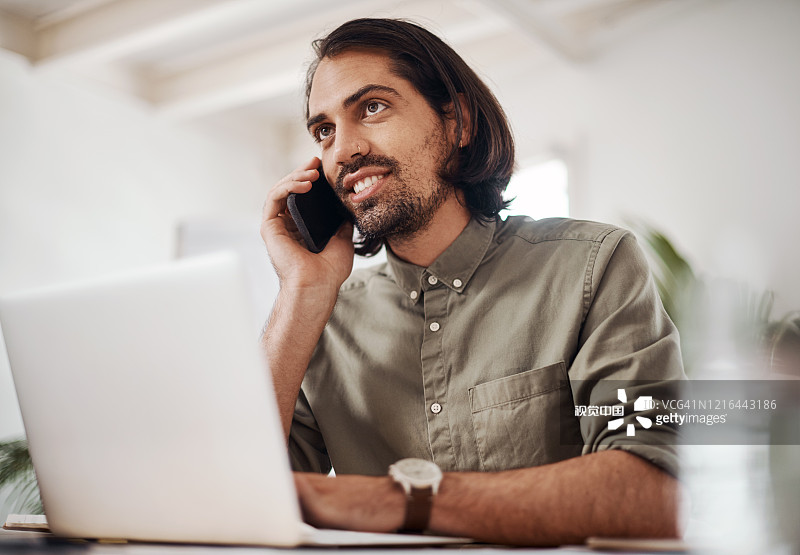calling: (249, 144, 374, 323)
